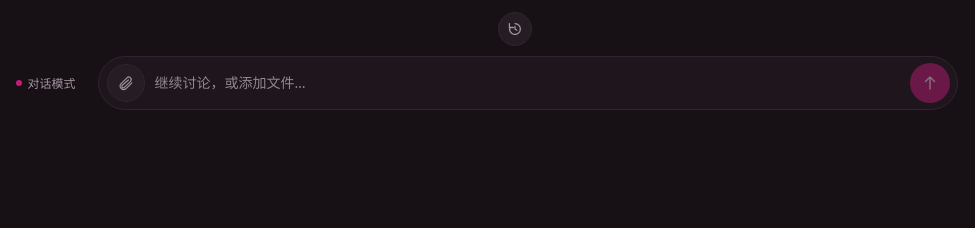
Test: 话题位置与输入提示（v2：入口② + 输入区） › 用户「从这里继续」后入口②说明当前从哪个历史片段继续
Click the button named "从历史继续：说明下一条消息从哪段历史继续；收起不会取消已选位置".
click(515, 29)  # box top-left (498, 12), bottom-right (532, 46)
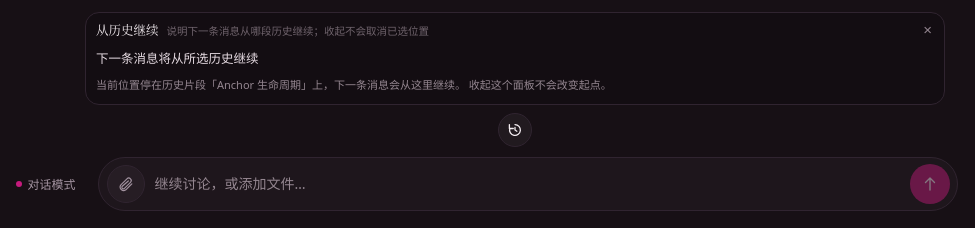
Expected: the element named "从历史继续" shows "Anchor 生命周期", top-left (206, 77), bottom-right (312, 92)
Expected: the element named "从历史继续" shows "下一条消息会从这里继续", top-left (312, 77), bottom-right (612, 92)
